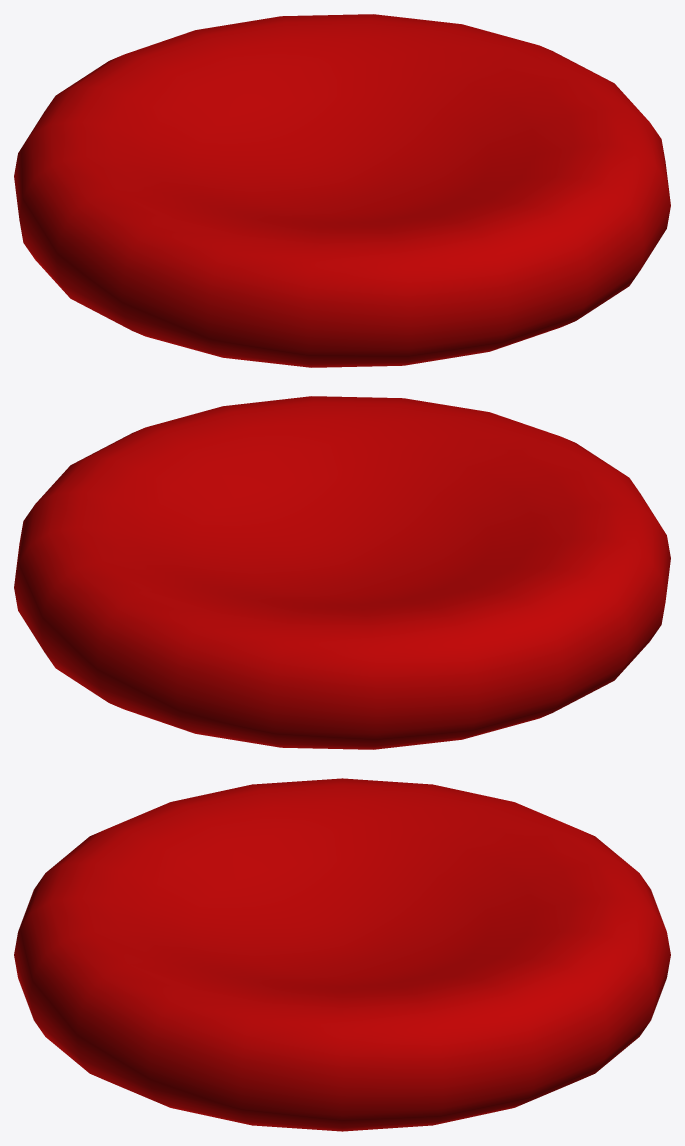
Rendered from RedBloodCell.fbx.
3 views of the same model, one above another, from view 1: azimuth 30°, elevation 25°; view 2: azimuth 150°, elevation 25°; view 3: azimuth 270°, elevation 25° (orthographic).
Parts seen in each view (by area): view 1: pSphere1; view 2: pSphere1; view 3: pSphere1.
Part boxes in pixels (x1,y1,x2,y2): pSphere1: (14,14,670,367); pSphere1: (14,396,670,749); pSphere1: (14,778,670,1131).
Size of the model in its own units: 4 by 0.7714 by 4.
